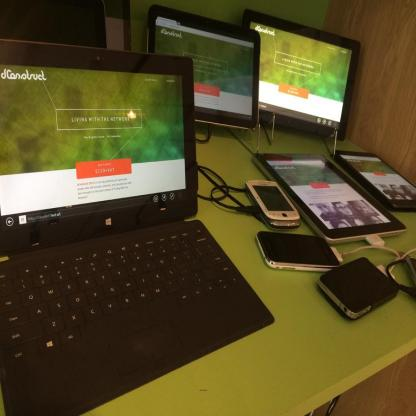board: (0, 39, 275, 415)
